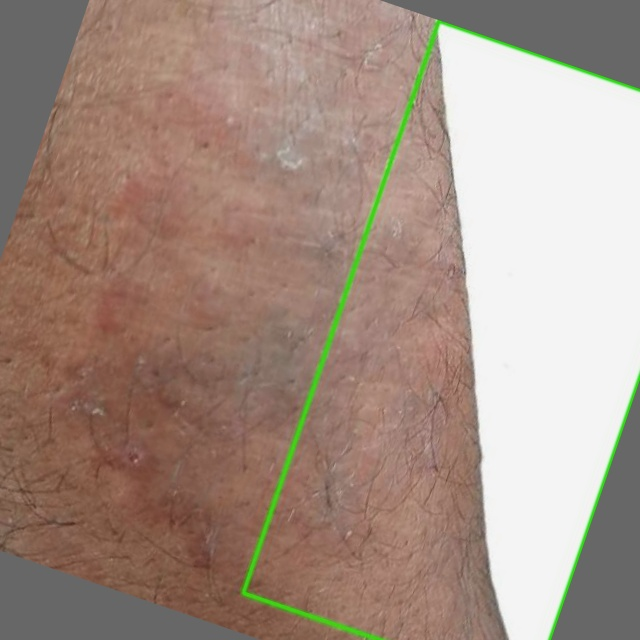Tinea Corporis: (243, 20, 639, 639)
